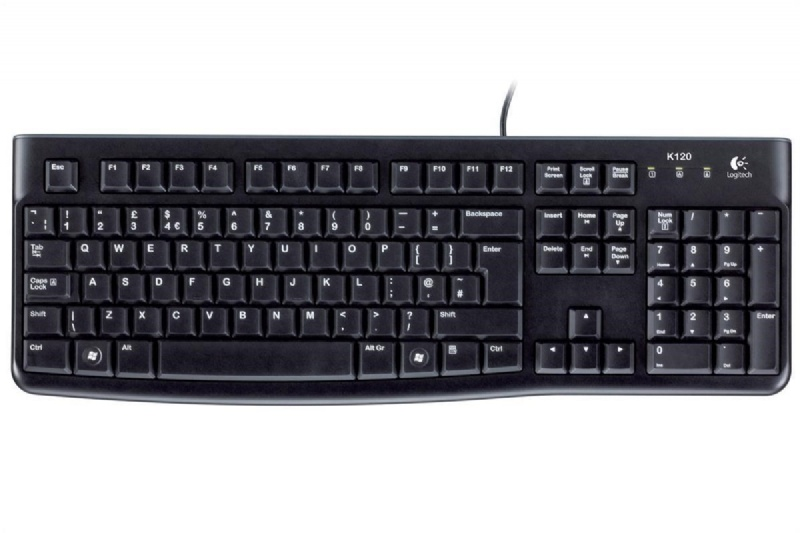keyboard: (11, 128, 794, 408)
